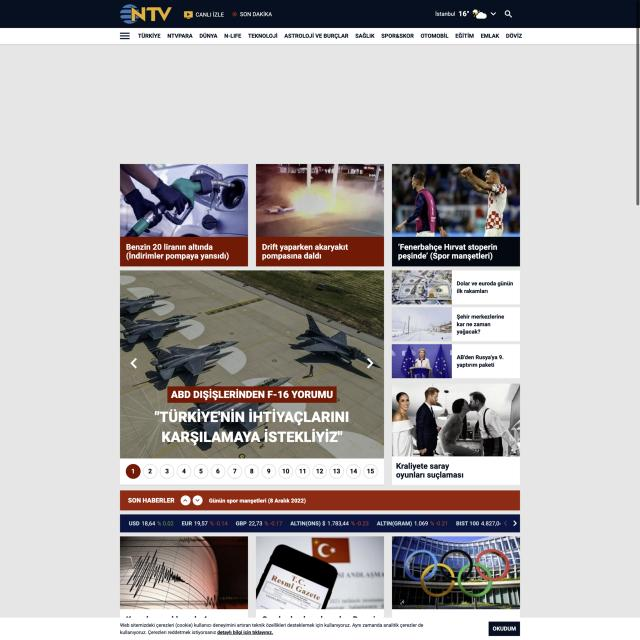CheckBox: (488, 621, 521, 637)
QR code: (120, 515, 520, 532)
Spinner: (255, 163, 384, 267), (120, 162, 248, 266), (392, 163, 520, 266)
Switch: (120, 270, 383, 458)
alert: (431, 5, 498, 20)
bag: (0, 0, 635, 45)
copy: (392, 382, 521, 456), (120, 536, 248, 610), (392, 536, 520, 610), (257, 536, 384, 610), (391, 270, 452, 305), (391, 344, 452, 378), (392, 307, 452, 341)
date picker: (120, 2, 174, 24)
decoration: (118, 31, 526, 42)
dropdown: (120, 458, 384, 484)
header: (0, 617, 640, 640)
